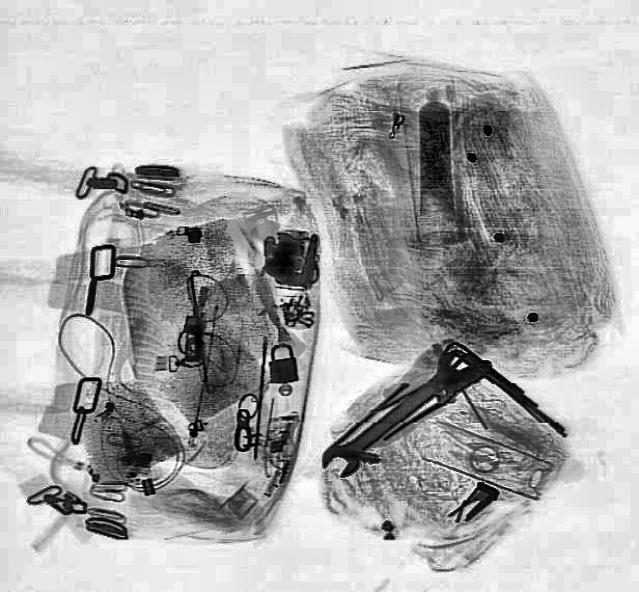Wrench: (312, 342, 483, 482)
